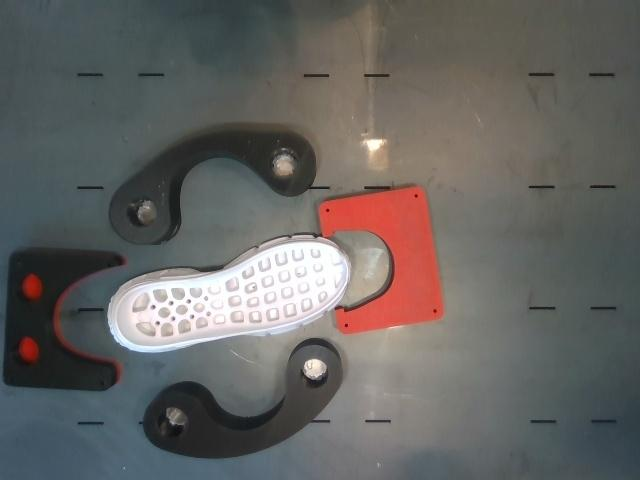shoes: (114, 242, 347, 346)
